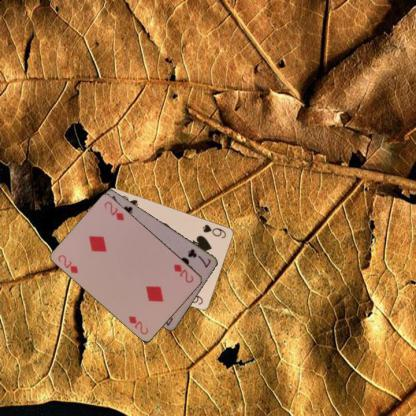2d: (55, 251, 80, 275), (172, 261, 194, 285)
6s: (200, 222, 228, 239)
7c: (184, 246, 213, 269)
